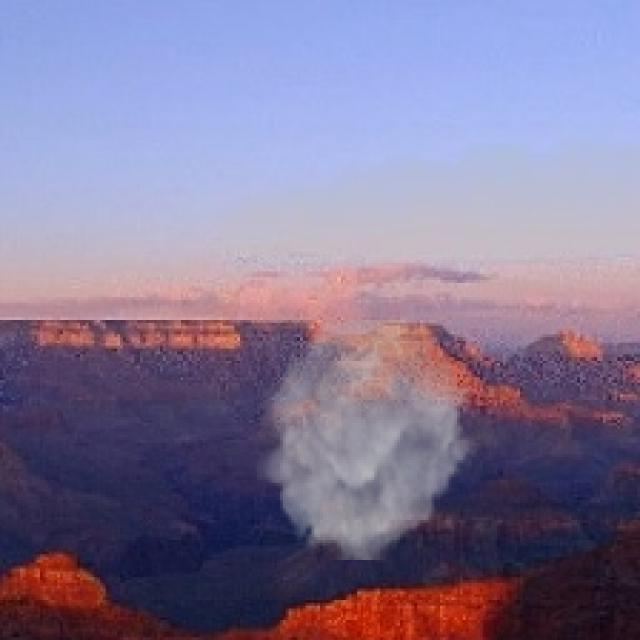Smoke: (255, 320, 480, 560)
